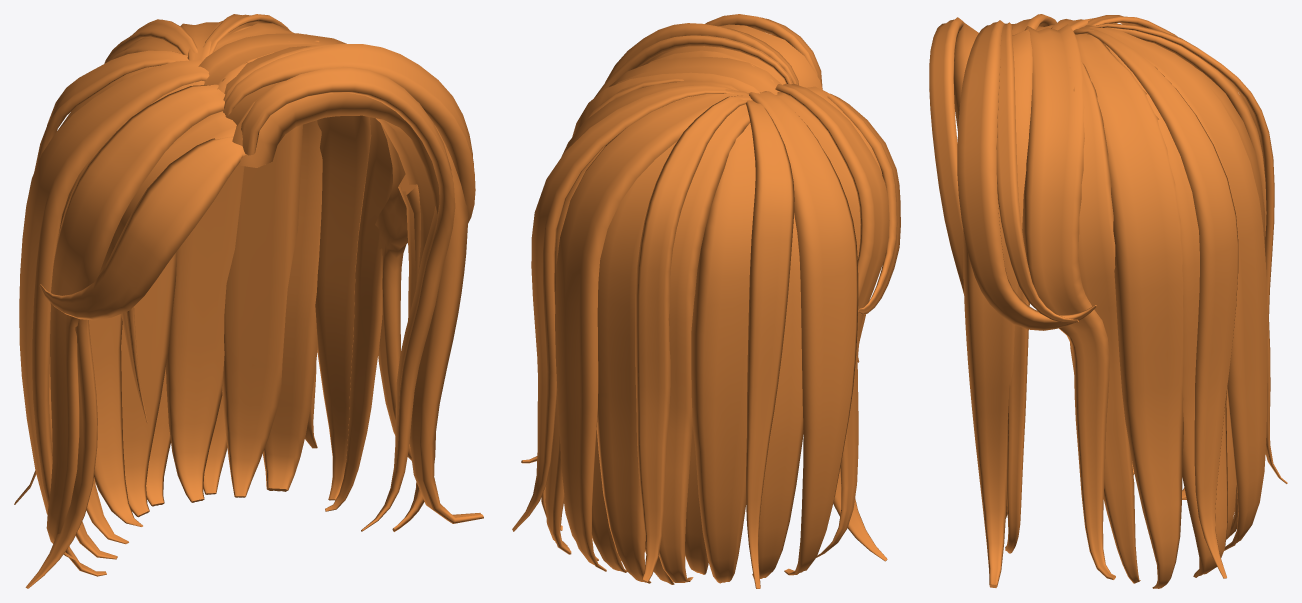
The model's file is hair2_l.fbx.
3 renders of one model, left to right at view 1: azimuth 30°, elevation 25°; view 2: azimuth 150°, elevation 25°; view 3: azimuth 270°, elevation 25°, orthographic. The views are drawn at different scales.
Visible parts, largest first — view 1: hair_l; view 2: hair_l; view 3: hair_l.
Part boxes in pixels (bbox=[...]): hair_l: bbox=[14, 14, 483, 588]; hair_l: bbox=[512, 14, 900, 588]; hair_l: bbox=[929, 14, 1287, 588].
Size of the model in its own units: 46.44 by 58.7 by 37.56.
